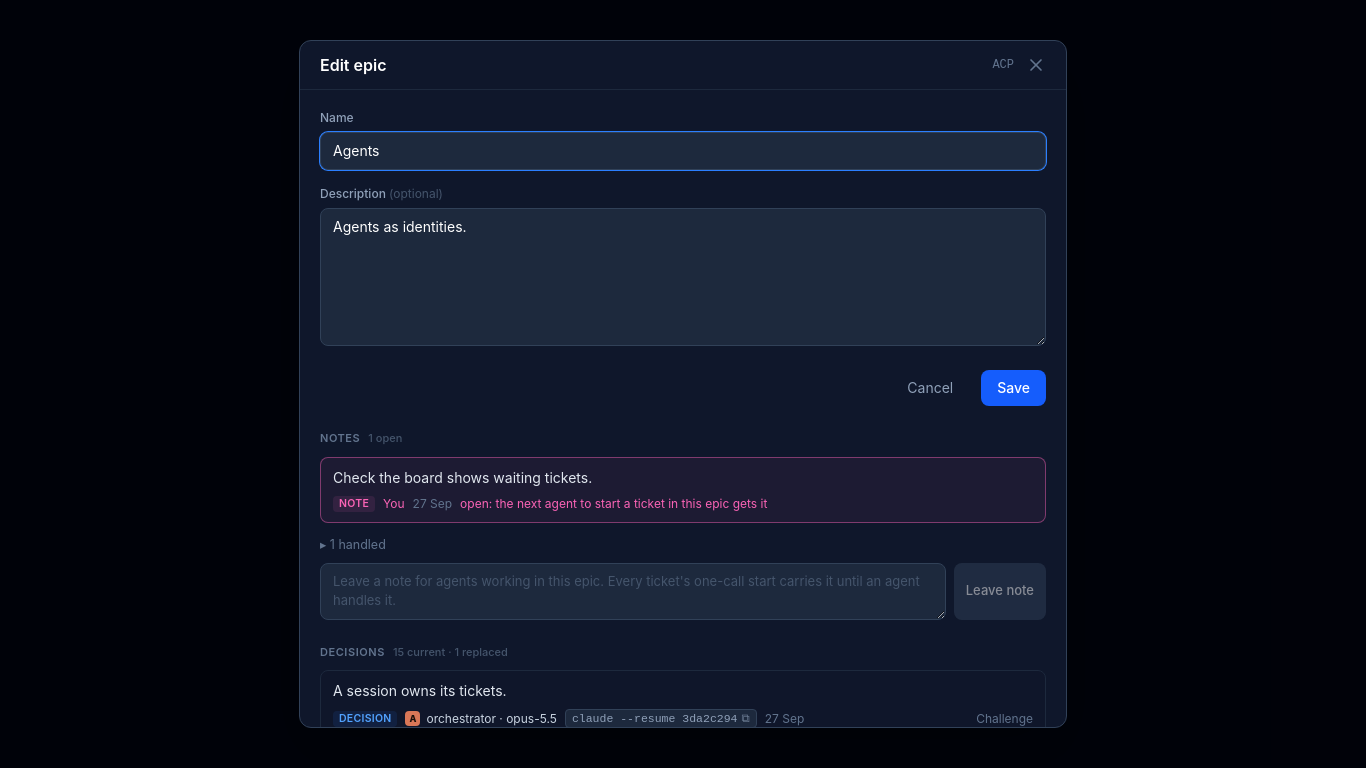
Test case: the epic dialog's entries › challenges a decision: the box points at it, the note carries it, and the entry shows it
Click the button with aria-label "Challenge decision" at (1005,719), box [976, 711, 1033, 727]
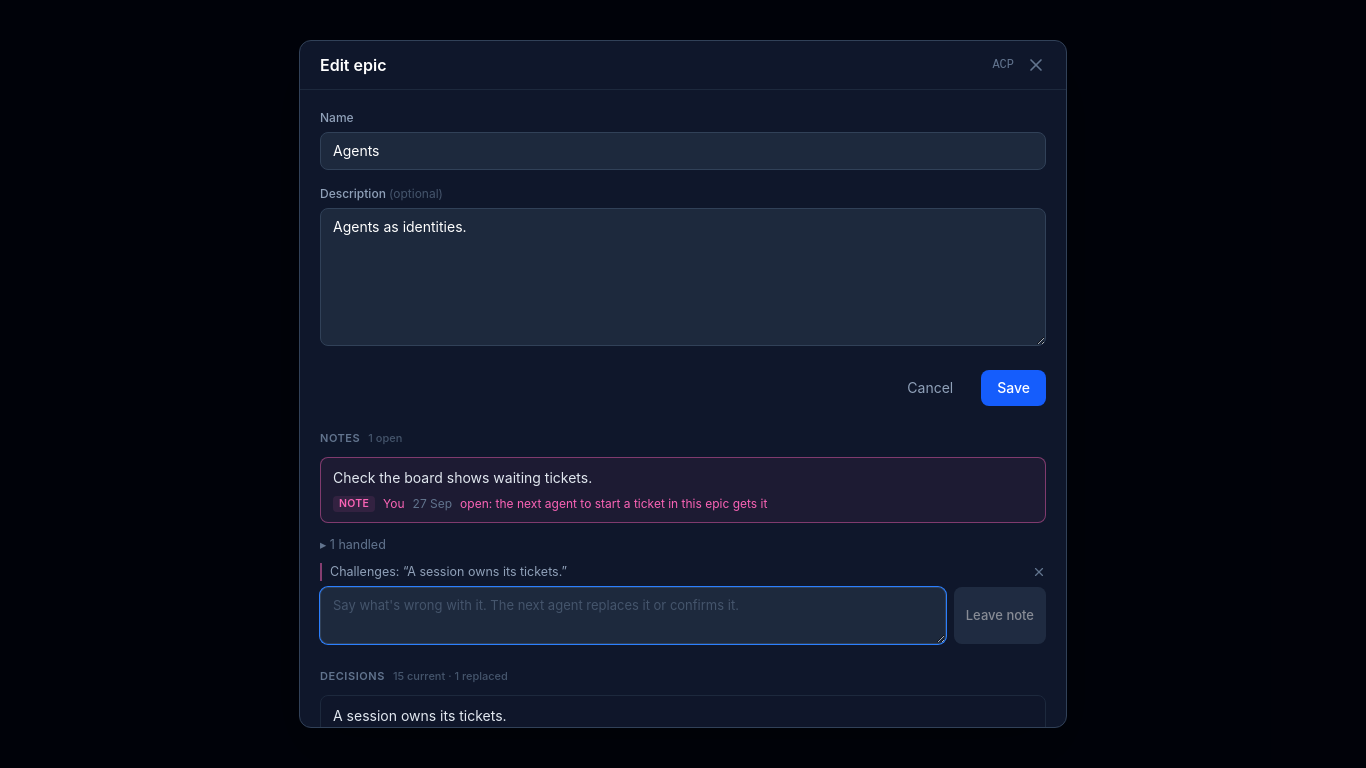
Now the element with test id "note-about" shows "A session owns its tickets.", box [407, 564, 562, 578]
Replace the text in the text box named "Note" with "Sessions can't hold tickets." at (633,616), box [320, 587, 946, 644]
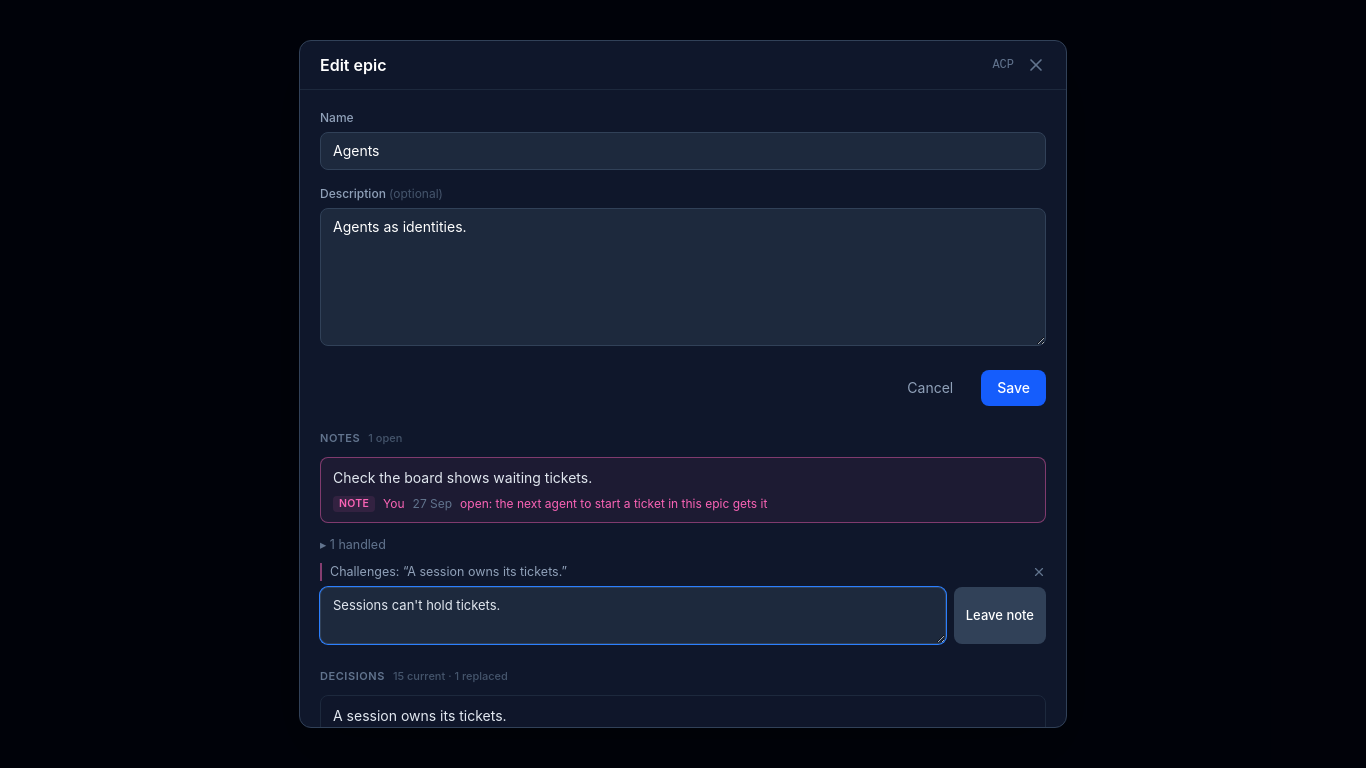
Submit the form "Leave note", box [320, 587, 1046, 644]
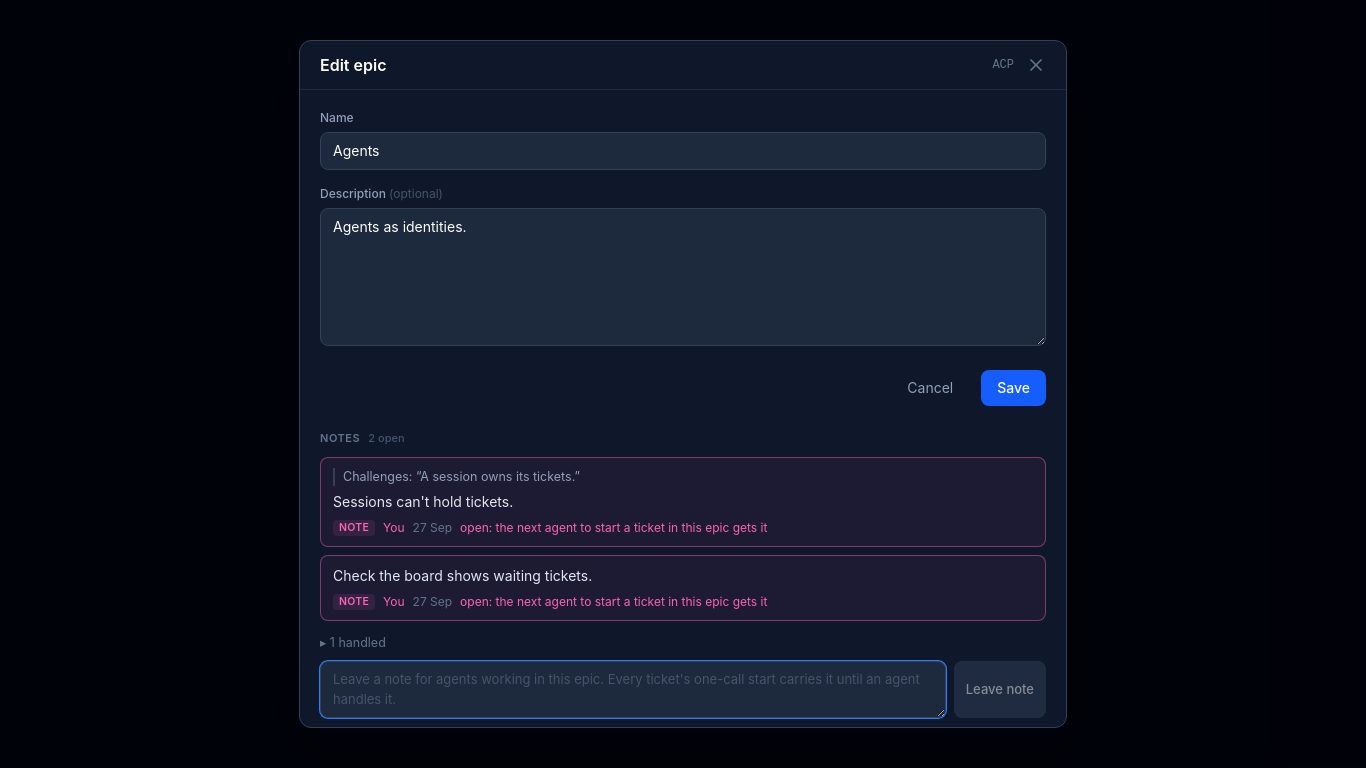
Now the text "Challenges: “A session owns its tickets.”" is shown, box [333, 468, 1033, 486]
Now the element with test id "note-about" is gone
